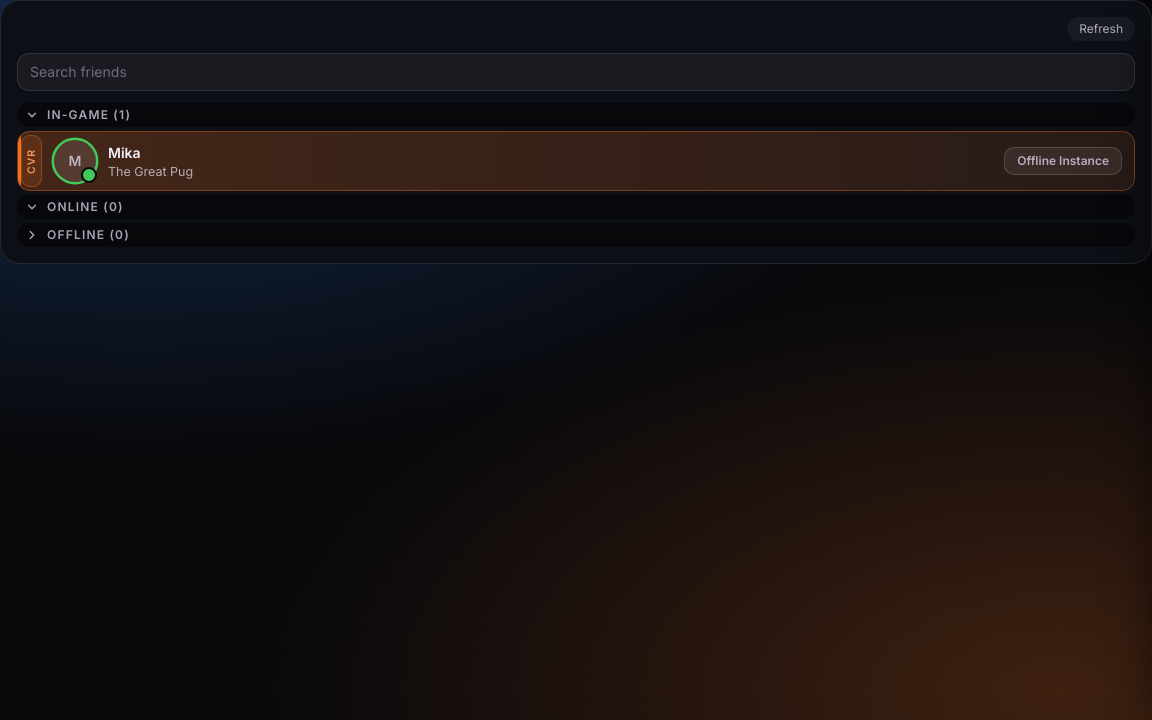
Test: FriendDrawer (VRX-69) › defensively renders a shared-contract CVR Offline Instance as private
Click the button "M" at (75, 161), box [54,140,96,182]
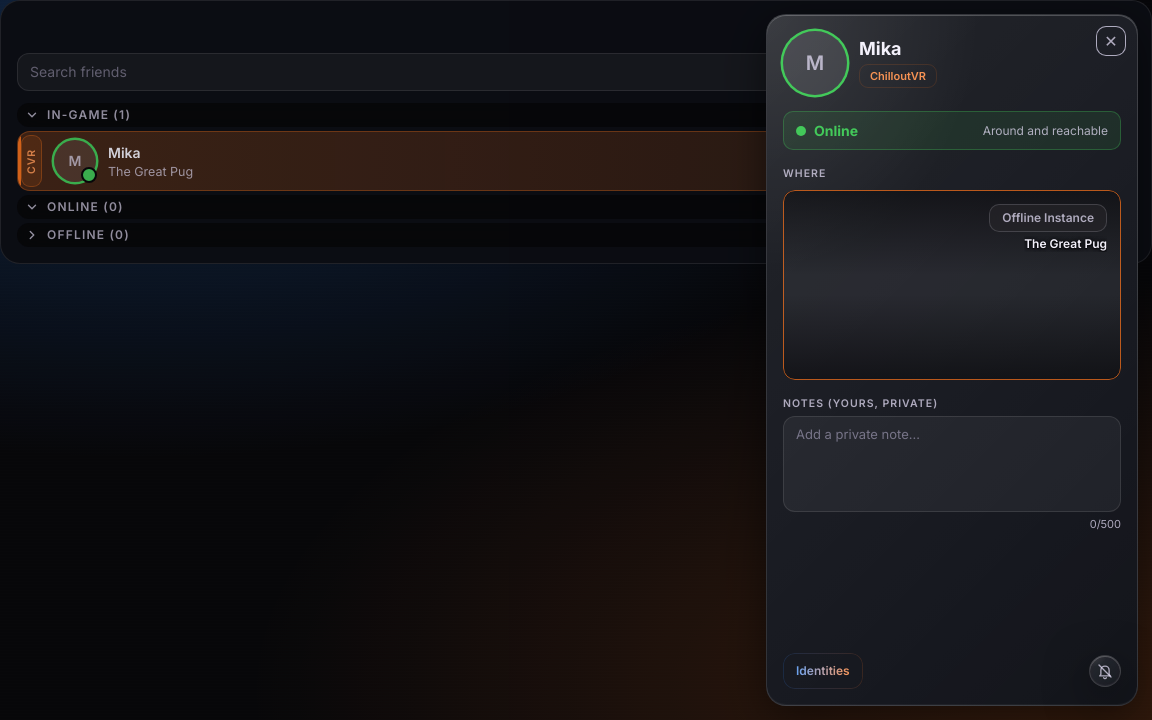
Now the text "Offline Instance" is shown, box [989,204,1107,232]
